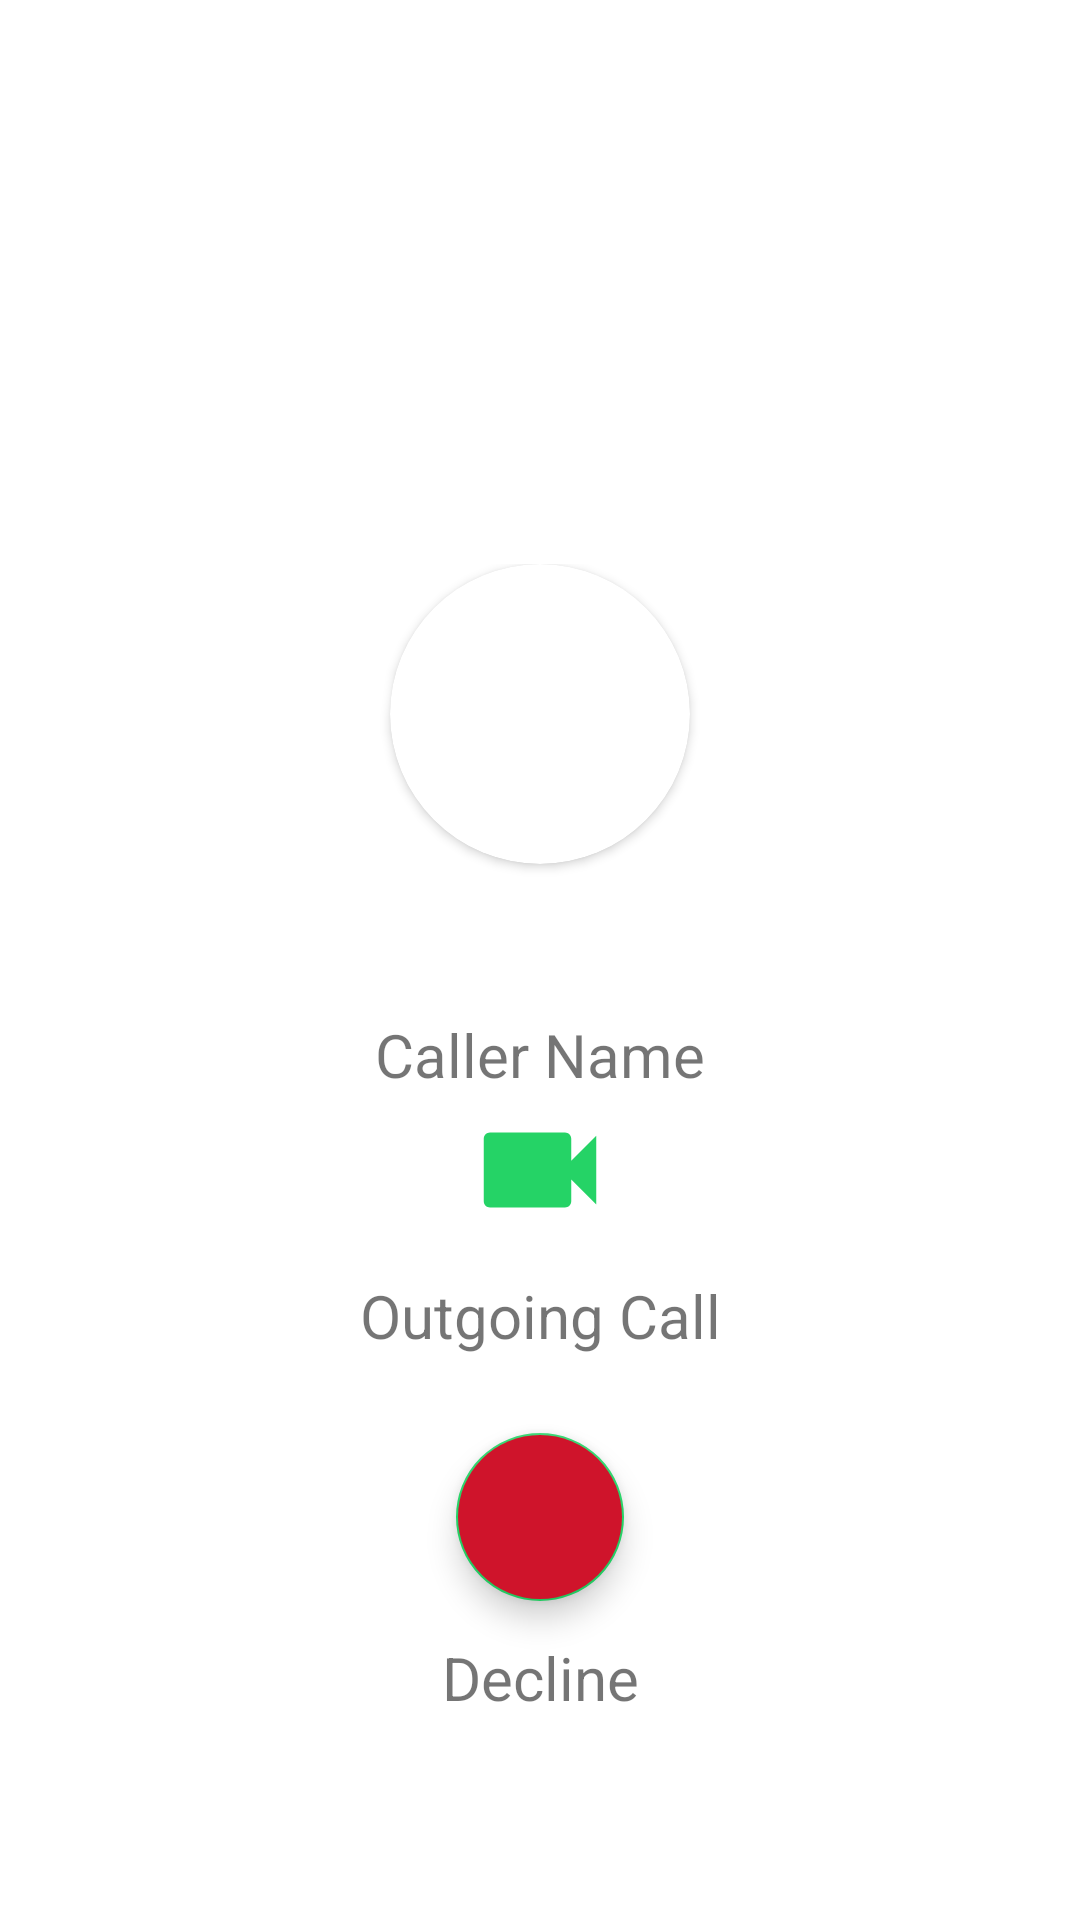

Where icons sit on this 1080*1920 app screen, as region(x1, y1, x2, y2):
incoming videocam: region(483, 1132, 597, 1208)
